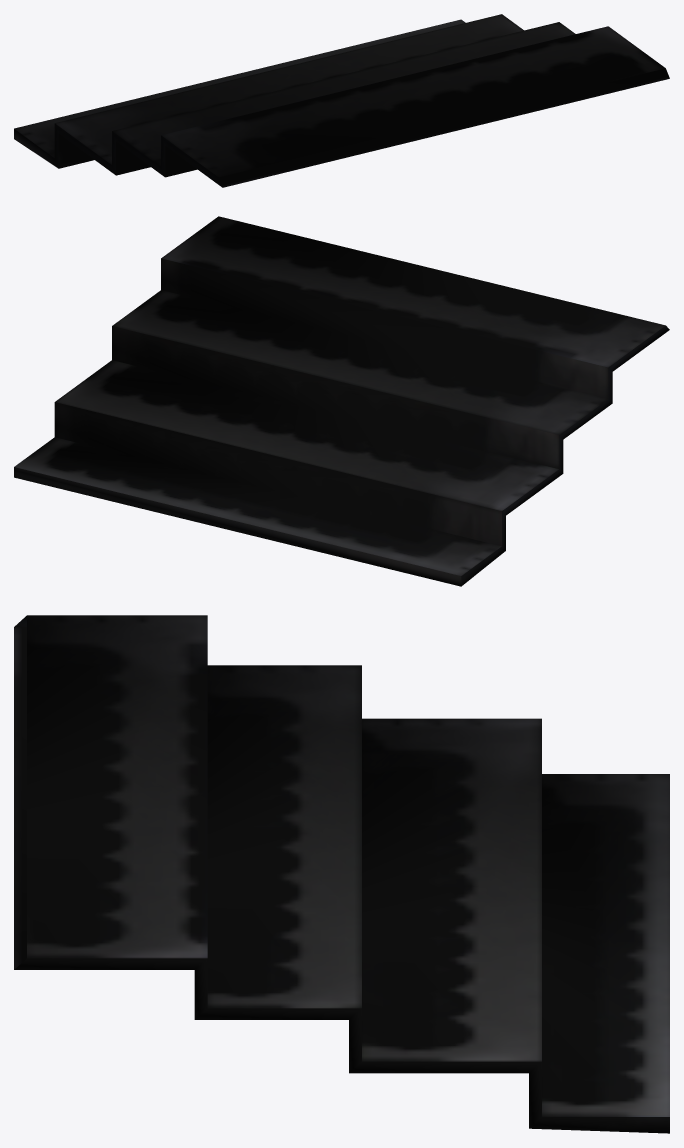
Rendered from FUS0110011.fbx.
3 views of the same model, one above another, from view 1: azimuth 30°, elevation 25°; view 2: azimuth 150°, elevation 25°; view 3: azimuth 270°, elevation 25° (orthographic). The views are drawn at different scales.
Parts seen in each view (by area): view 1: smFUS0110011; view 2: smFUS0110011; view 3: smFUS0110011.
Part boxes in pixels (x1=…): smFUS0110011: x1=14, y1=14, x2=669, y2=187; smFUS0110011: x1=14, y1=216, x2=669, y2=586; smFUS0110011: x1=14, y1=615, x2=669, y2=1133.
Bounding box in the file's own units: 699 × 166 × 565.
Materials: 1 (1 with a texture image).
